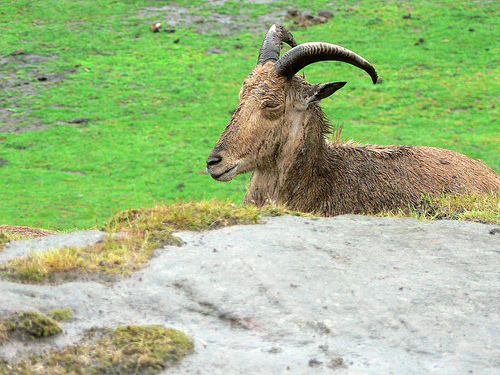goat: (205, 23, 500, 223)
